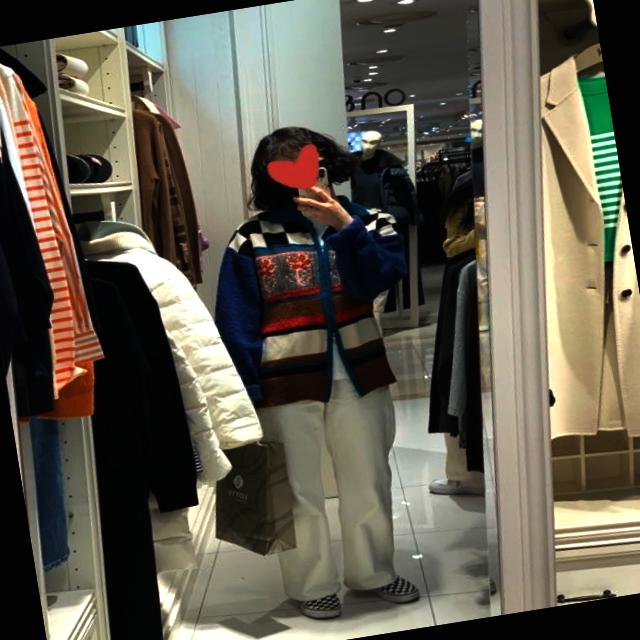cardigan: (197, 186, 426, 420)
cottonpants: (244, 343, 422, 604)
